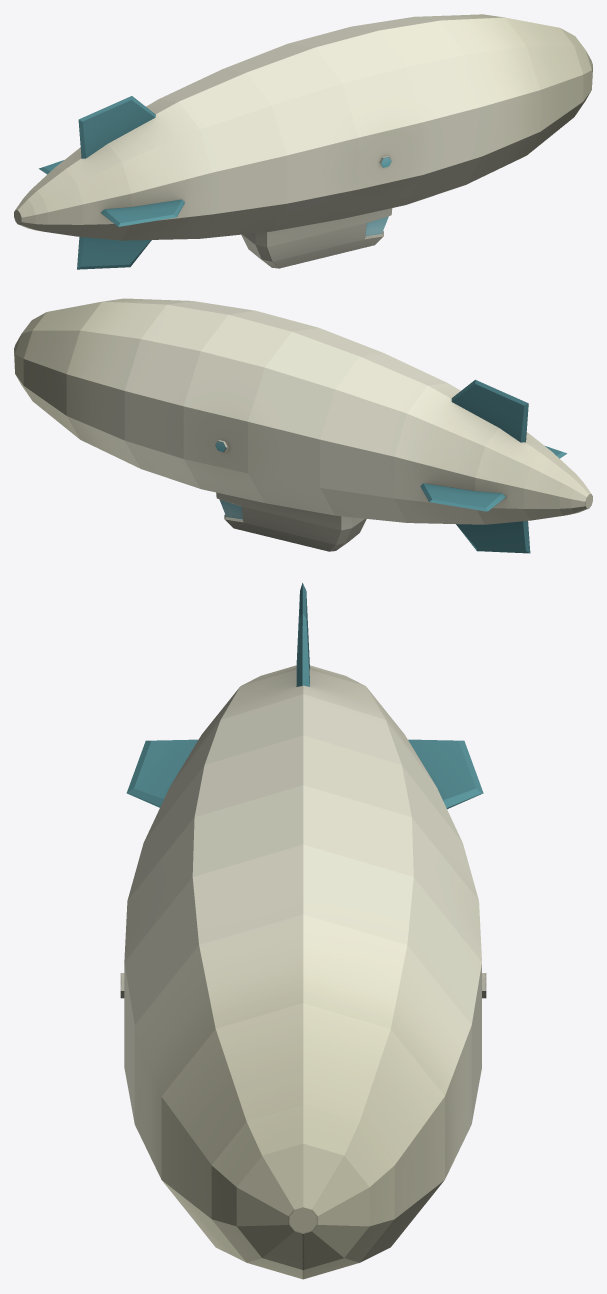
File: ea9d77e7-f507-458b-aeed-d4651c689510.glb
The picture shows the model from 3 angles, top to bottom: view 1: azimuth 30°, elevation 25°; view 2: azimuth 150°, elevation 25°; view 3: azimuth 270°, elevation 25°; orthographic projection. The views are drawn at different scales.
Visible parts, largest first — view 1: Blimp_mesh1; view 2: Blimp_mesh1; view 3: Blimp_mesh1.
Part boxes in pixels (box(x1,y1,x2,y2)): Blimp_mesh1: box(14, 14, 592, 269); Blimp_mesh1: box(14, 298, 592, 553); Blimp_mesh1: box(120, 583, 486, 1279).
Size of the model in its own units: 18.26 by 6.24 by 5.06.
1 material, 1 textured.
